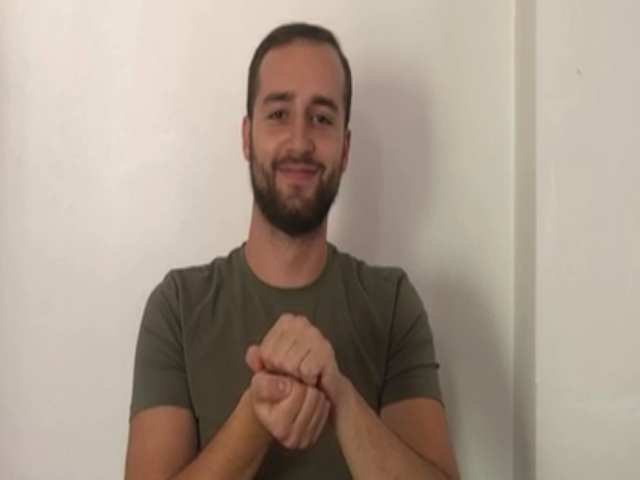Istorija: (239, 310, 344, 451)
